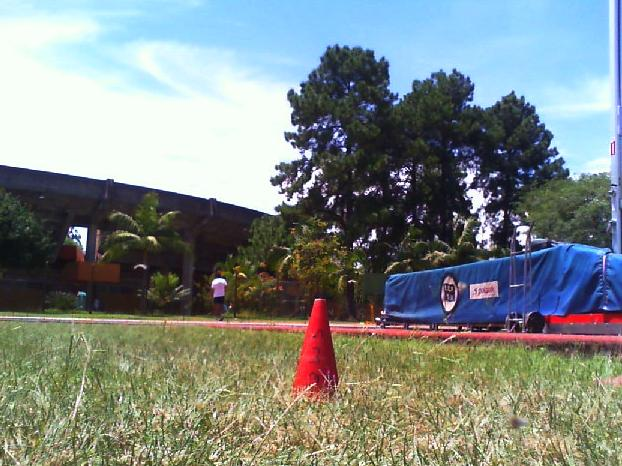0 cone: (290, 299, 341, 402)
